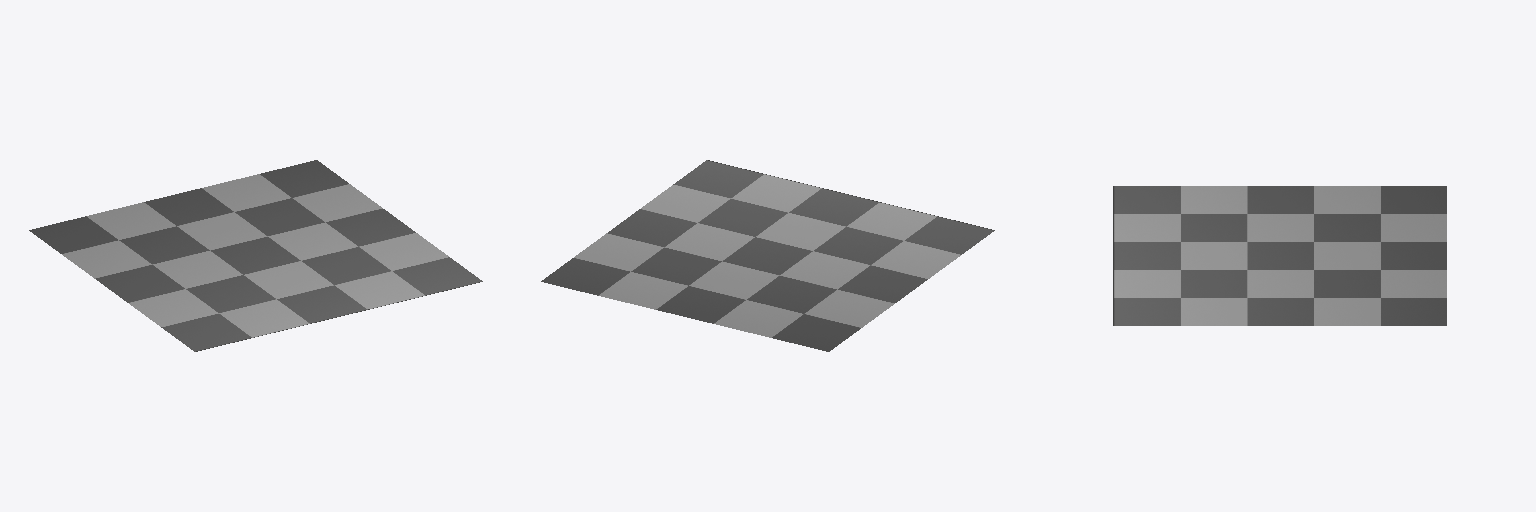
The picture shows the model from 3 angles: view 1: azimuth 30°, elevation 25°; view 2: azimuth 150°, elevation 25°; view 3: azimuth 270°, elevation 25°; orthographic projection.
Bounding box in the file's own units: 60 × 0 × 60.
Materials: 1 (1 with a texture image).